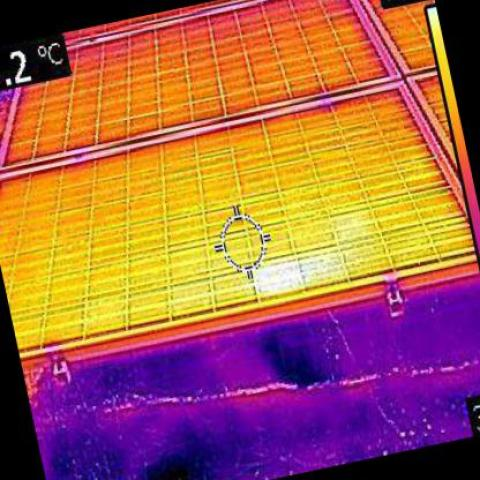fault: (251, 250, 349, 296)
